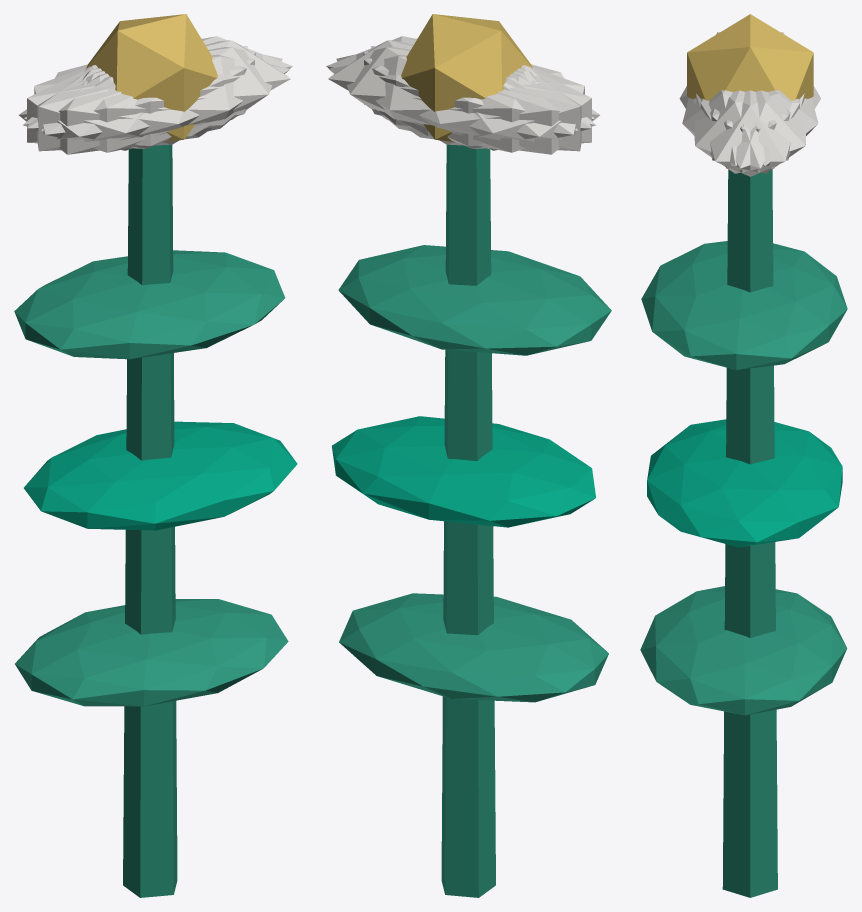
File: oldenlandia-corymbosa.glb
3 views of the same model, side by side, from view 1: azimuth 30°, elevation 25°; view 2: azimuth 150°, elevation 25°; view 3: azimuth 270°, elevation 25° (orthographic).
Parts seen in each view (by area): view 1: stem, leaf2, leaf0, leaf1, center, petal1, petal6, petal2, petal5, petal7, petal0, petal4 (+2 smaller); view 2: stem, leaf2, leaf0, leaf1, center, petal8, petal3, petal7, petal4, petal2, petal0, petal5 (+2 smaller); view 3: stem, leaf2, leaf1, leaf0, center, petal0, petal5, petal4, petal1, petal8.
Boxes of the visible parts, <box> form: stem: <box>123,144,177,897</box>; leaf2: <box>14,250,285,359</box>; leaf0: <box>15,599,288,706</box>; leaf1: <box>24,421,297,530</box>; center: <box>86,14,217,141</box>; petal1: <box>23,54,289,152</box>; petal6: <box>19,66,212,154</box>; petal2: <box>37,46,247,151</box>; petal5: <box>41,47,282,145</box>; petal7: <box>27,51,255,148</box>; petal0: <box>86,40,290,136</box>; petal4: <box>24,36,292,128</box>; stem: <box>441,144,495,897</box>; leaf2: <box>338,245,611,355</box>; leaf0: <box>339,593,608,702</box>; leaf1: <box>332,416,595,527</box>; center: <box>401,14,532,141</box>; petal8: <box>329,54,595,152</box>; petal3: <box>407,66,599,154</box>; petal7: <box>371,46,581,151</box>; petal4: <box>336,47,577,145</box>; petal2: <box>363,51,591,148</box>; petal0: <box>328,40,532,136</box>; petal5: <box>326,36,594,128</box>; stem: <box>722,169,777,897</box>; leaf2: <box>641,241,847,370</box>; leaf1: <box>647,419,842,547</box>; leaf0: <box>640,586,847,715</box>; center: <box>687,14,813,100</box>; petal0: <box>696,90,804,176</box>; petal5: <box>694,90,799,173</box>; petal4: <box>700,90,806,173</box>; petal1: <box>682,90,790,166</box>; petal8: <box>710,90,818,166</box>.
Size of the model in its own units: 0.1452 by 0.4557 by 0.1002.
